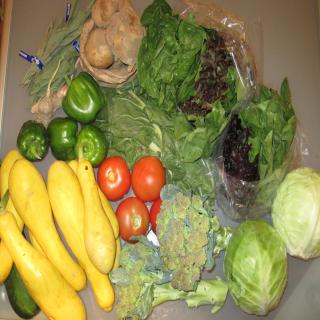Bell pepper: (59, 69, 106, 126), (75, 125, 109, 169), (45, 119, 80, 160), (15, 119, 48, 161), (48, 118, 78, 162), (17, 120, 48, 162), (74, 128, 108, 166)
Broccoli: (115, 240, 229, 320), (115, 240, 228, 320), (155, 192, 234, 292)
Tomato: (133, 156, 166, 207), (92, 156, 126, 203), (117, 195, 149, 242), (149, 199, 166, 234)
